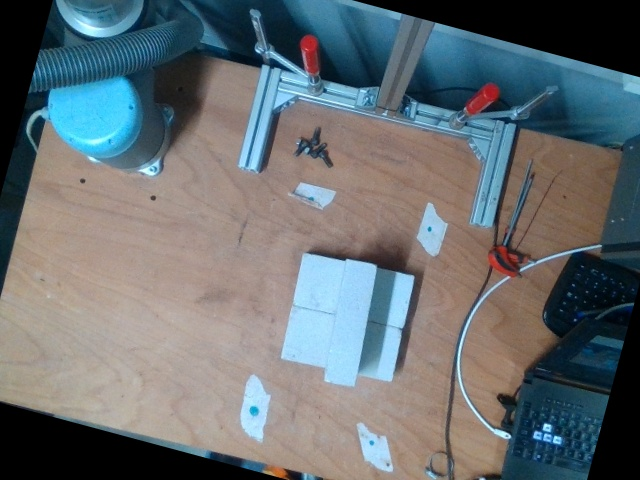brick-side: (324, 260, 377, 385)
